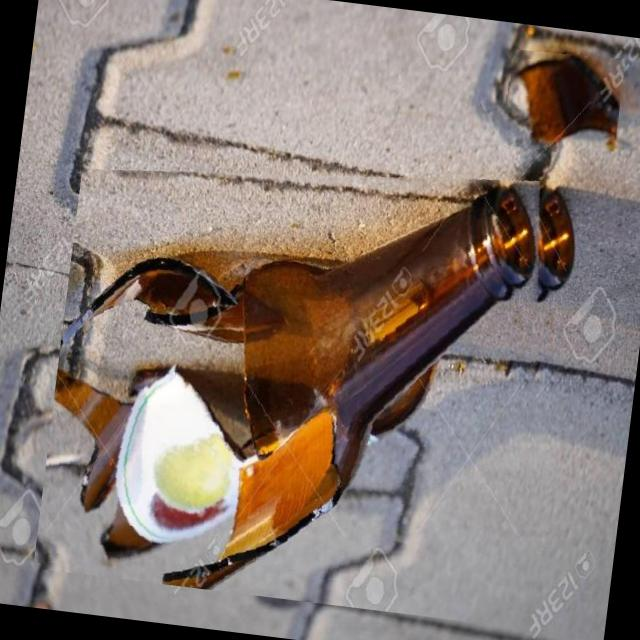Glass: (32, 124, 584, 628), (495, 42, 624, 158)
